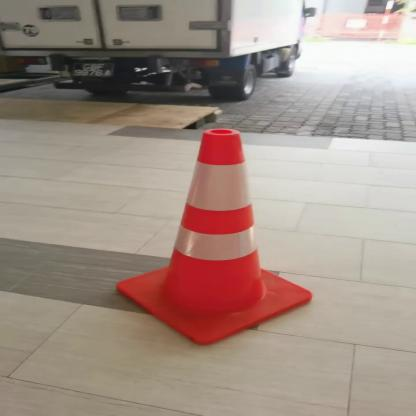cone: (110, 126, 314, 349)
